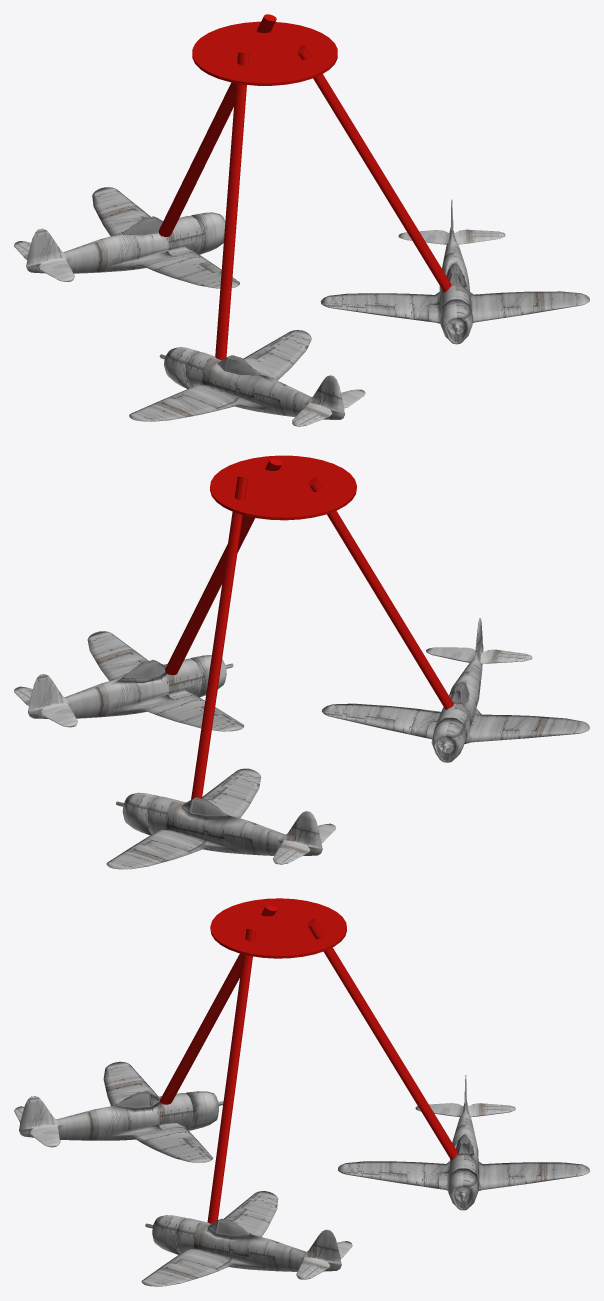
File: aviones animados.fbx
The picture shows the model from 3 angles, top to bottom: view 1: azimuth 30°, elevation 25°; view 2: azimuth 150°, elevation 25°; view 3: azimuth 270°, elevation 25°; orthographic projection. The views are drawn at different scales.
Visible parts, largest first — view 1: Cylinder.002; view 2: Cylinder.002; view 3: Cylinder.002.
Boxes of the visible parts, x1,y1,x2,y2 form: Cylinder.002: (14,14,589,426); Cylinder.002: (14,455,589,869); Cylinder.002: (14,898,589,1286).
Size of the model in its own units: 152 by 92.05 by 171.
